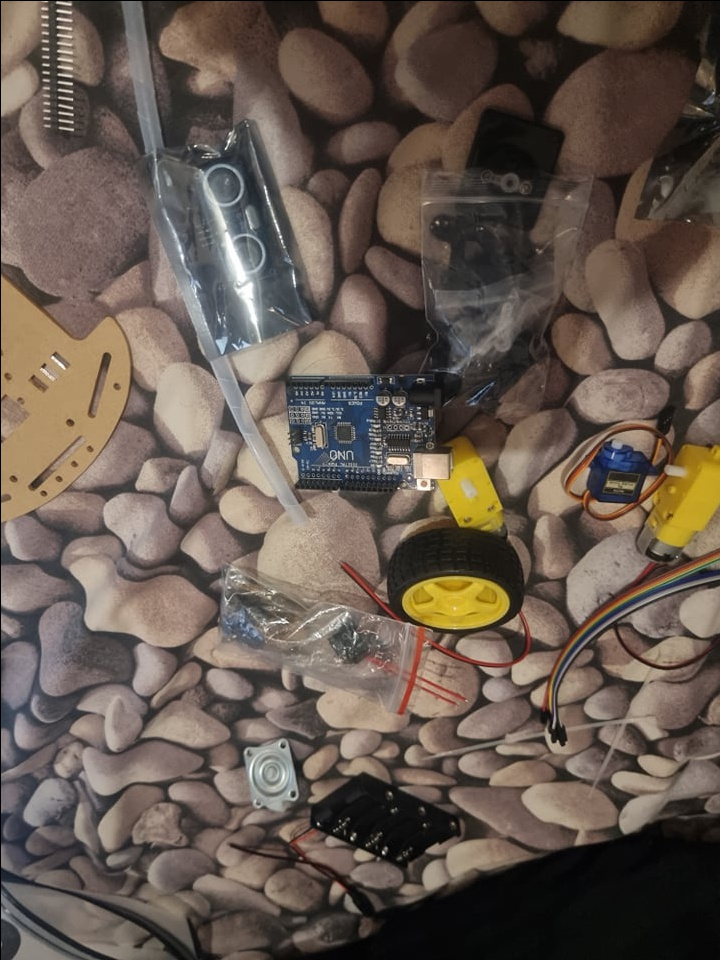BATTERY BOX: (309, 774, 460, 869)
SENSOR: (200, 152, 266, 284)
UNO R3: (281, 370, 453, 501)
